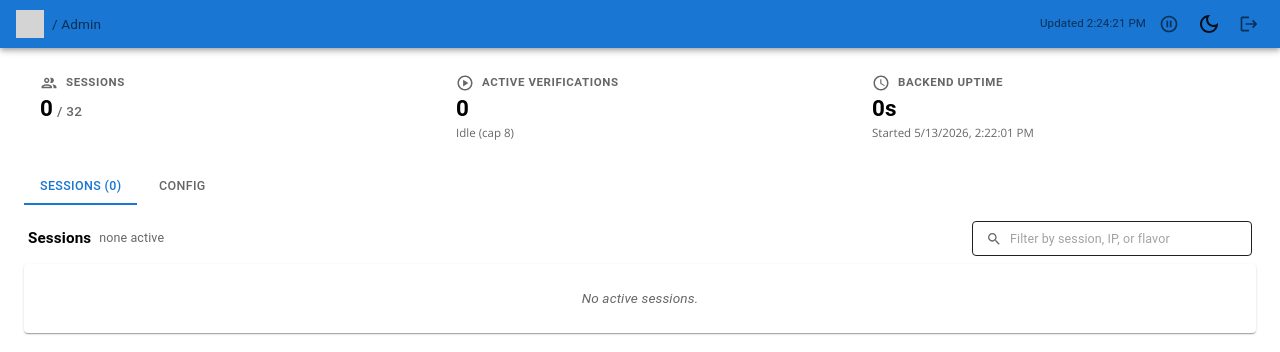
Test: AdminPage › toggling pause flips the icon button label and stops further refreshes
Click the button named "Pause auto-refresh" at [1169, 24], box [1154, 9, 1184, 39]
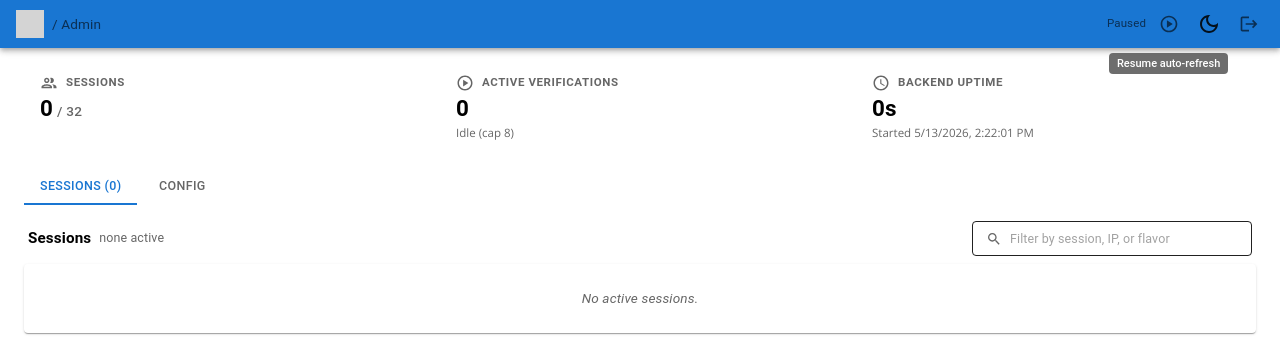
expect the text "Paused" is shown: met, box [1107, 15, 1146, 33]
expect the button named "Resume auto-refresh" is shown: met, box [1154, 9, 1184, 39]
